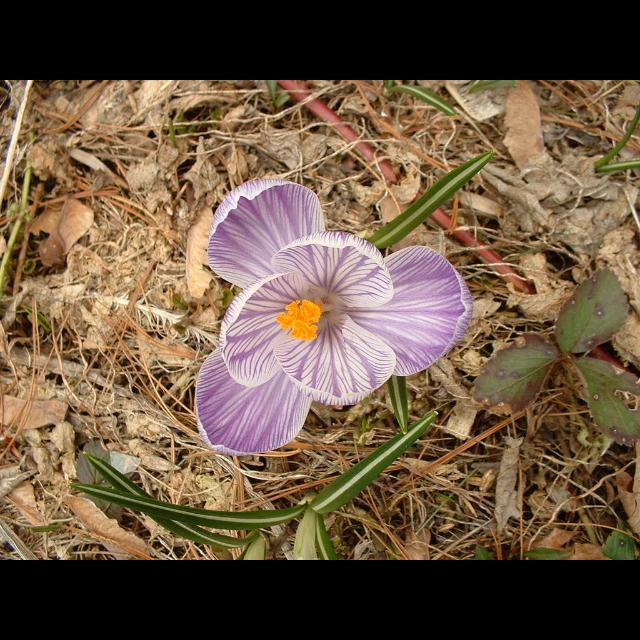Flower: (182, 174, 482, 448)
